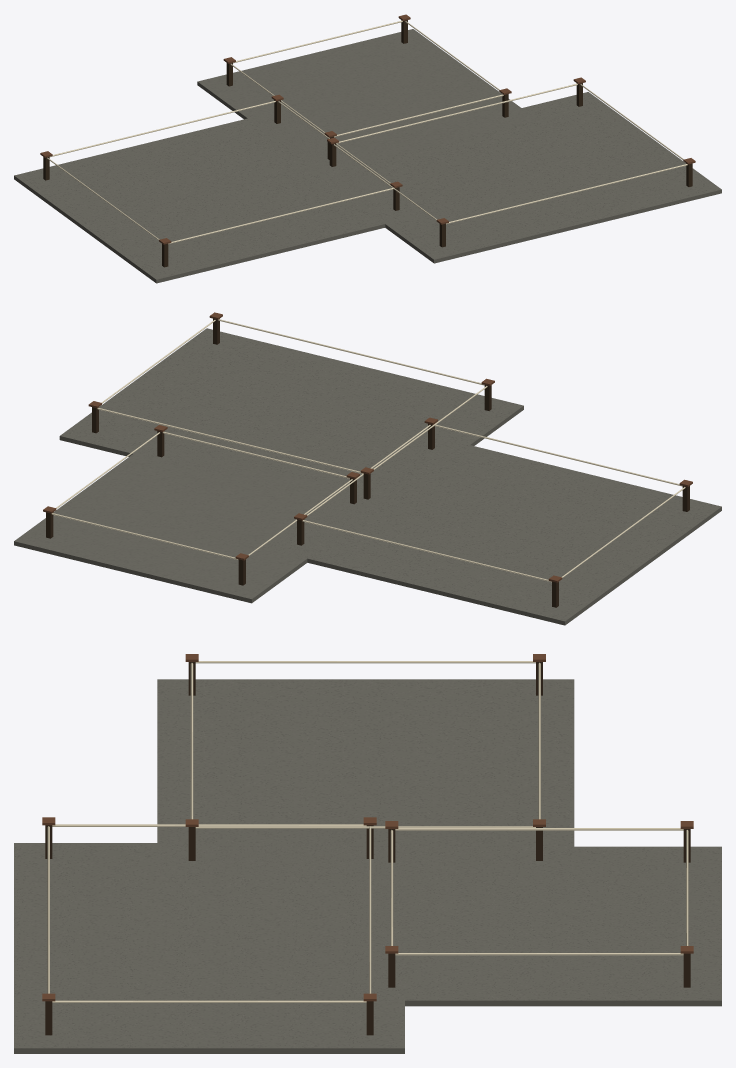
File: pol-5-site.glb
3 renders of one model, top to bottom at view 1: azimuth 30°, elevation 25°; view 2: azimuth 150°, elevation 25°; view 3: azimuth 270°, elevation 25°, orthographic. The views are drawn at different scales.
Size of the model in its own units: 20.1 by 1.09 by 16.3.
Materials: 4 (1 with a texture image).
